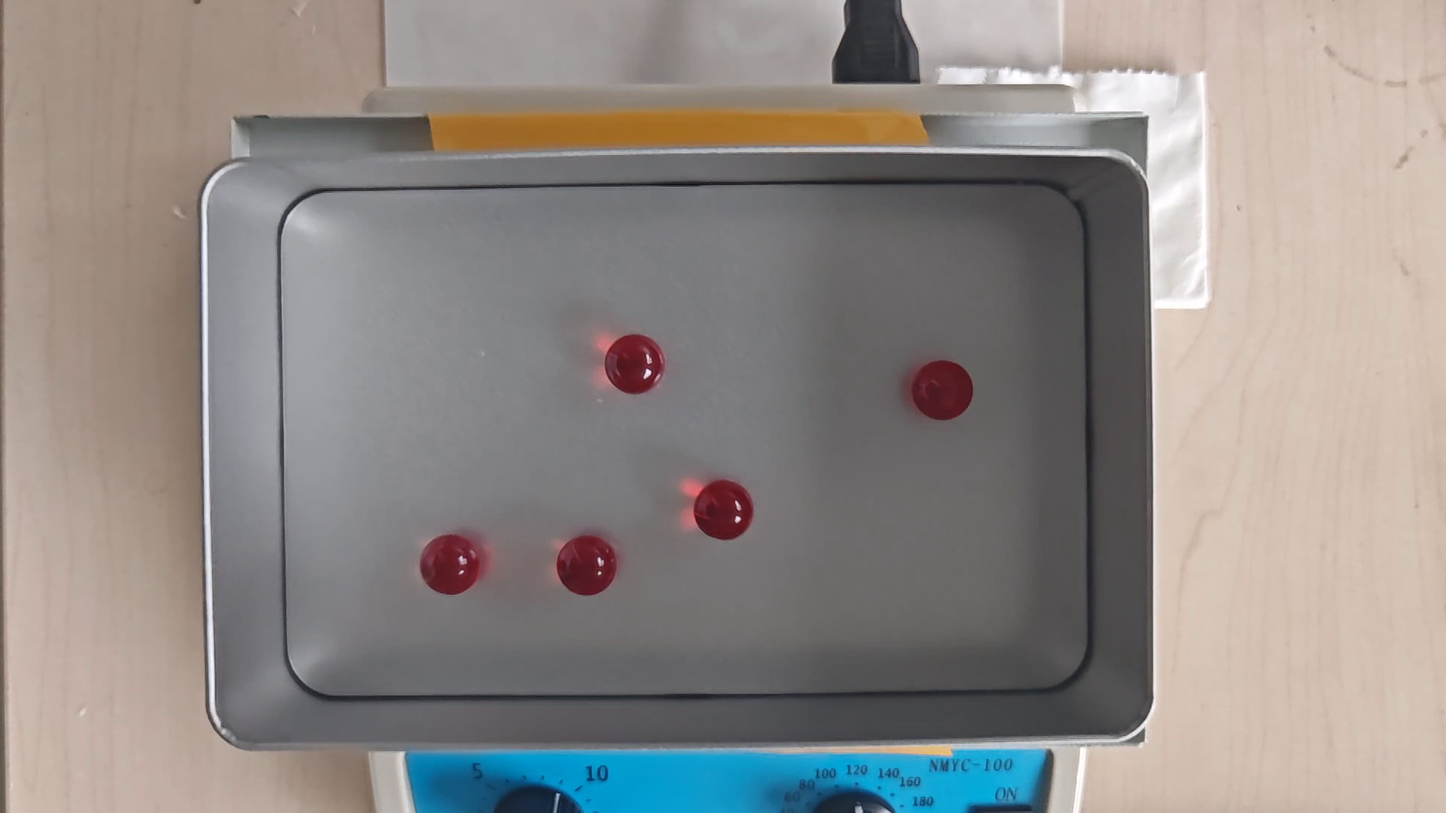ball: (603, 333, 665, 397), (557, 535, 618, 597), (911, 361, 972, 422), (693, 480, 756, 539), (419, 535, 481, 594)
container: (281, 184, 1093, 695)
